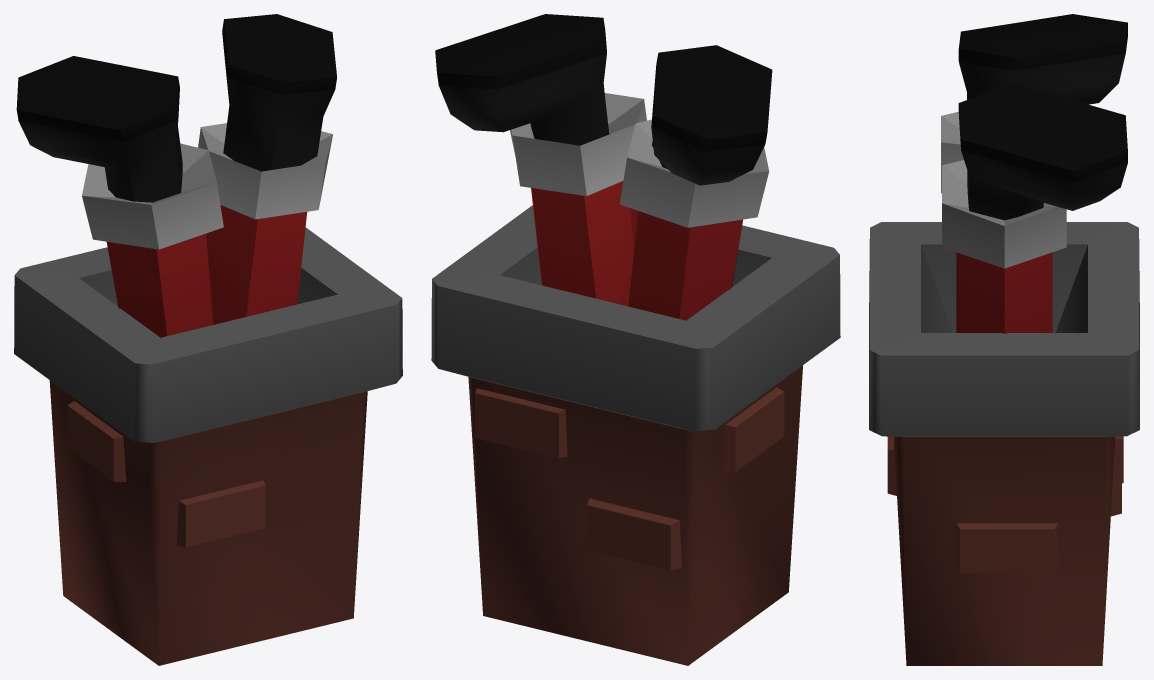
File: hat_santachimney.glb
3 renders of one model, left to right at view 1: azimuth 30°, elevation 25°; view 2: azimuth 150°, elevation 25°; view 3: azimuth 270°, elevation 25°, orthographic. The views are drawn at different scales.
Parts seen in each view (by area): view 1: hat_santachimney; view 2: hat_santachimney; view 3: hat_santachimney.
Boxes of the visible parts, x1,y1,x2,y2 form: hat_santachimney: (14, 14, 402, 665); hat_santachimney: (431, 14, 840, 665); hat_santachimney: (869, 14, 1139, 665).
Bounding box in the file's own units: 0.237 × 0.3826 × 0.1717.
